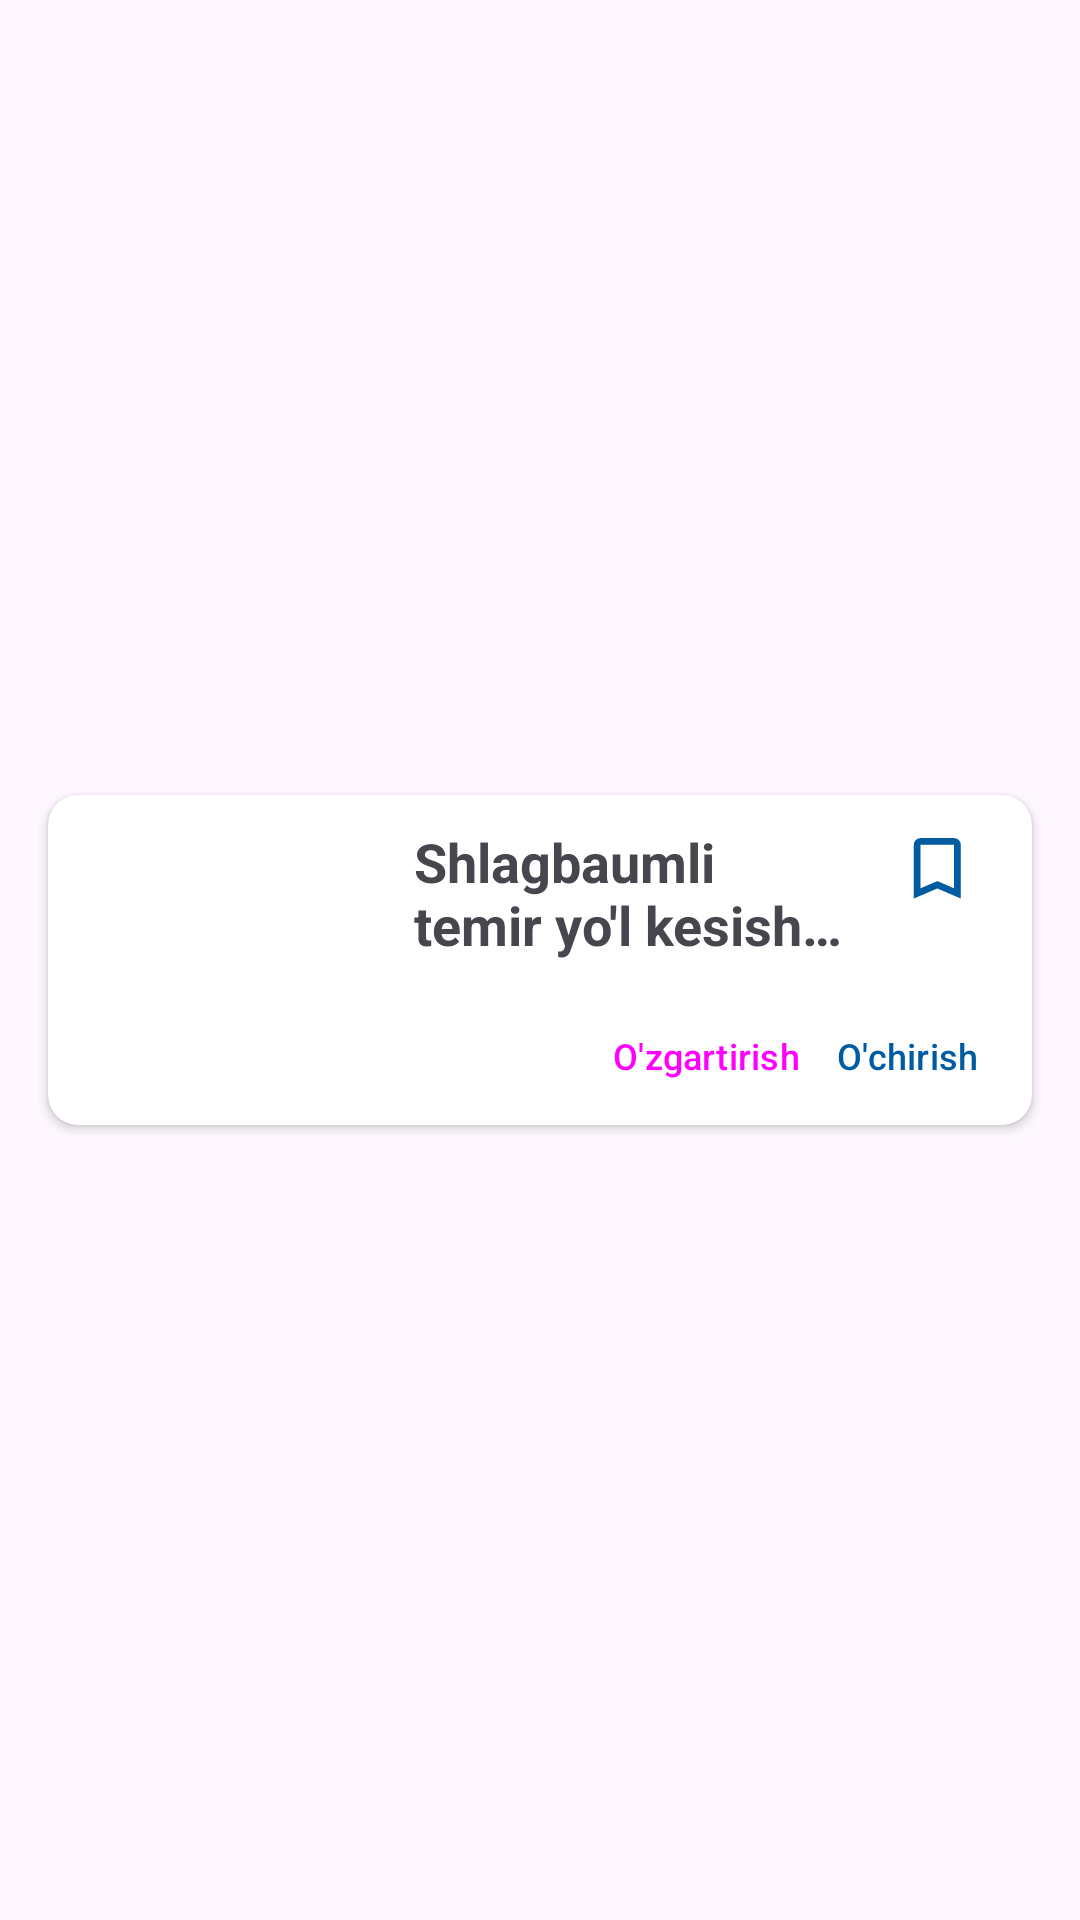

Screen size 1080w x 1920h. Icon name, then its box in pixels as (x1, y1, x2, y2):
bookmark: (913, 838, 961, 899)
